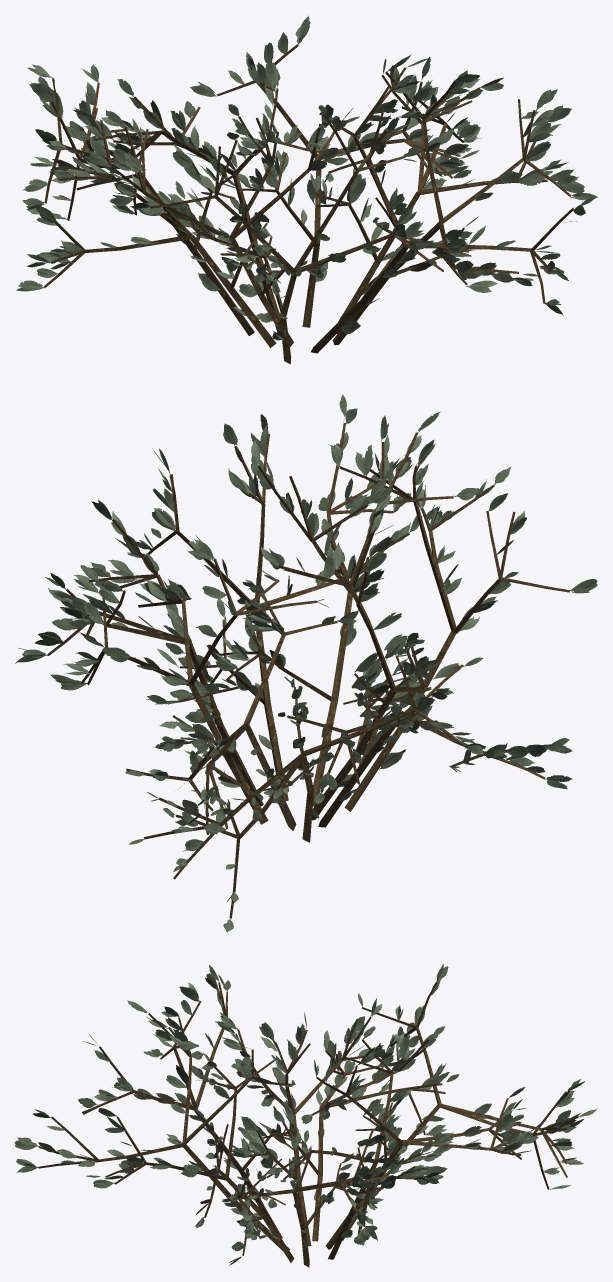
File: thorn_scrub_v01_LOD1.fbx
The picture shows the model from 3 angles, top to bottom: view 1: azimuth 30°, elevation 25°; view 2: azimuth 150°, elevation 25°; view 3: azimuth 270°, elevation 25°; orthographic projection. The views are drawn at different scales.
Parts seen in each view (by area): view 1: thorn_scrub_v01_LOD1; view 2: thorn_scrub_v01_LOD1; view 3: thorn_scrub_v01_LOD1.
Boxes of the visible parts, bbox=[...] form: thorn_scrub_v01_LOD1: bbox=[16, 15, 597, 364]; thorn_scrub_v01_LOD1: bbox=[15, 394, 597, 932]; thorn_scrub_v01_LOD1: bbox=[14, 964, 597, 1267].
Size of the model in its own units: 217 by 126 by 265.
